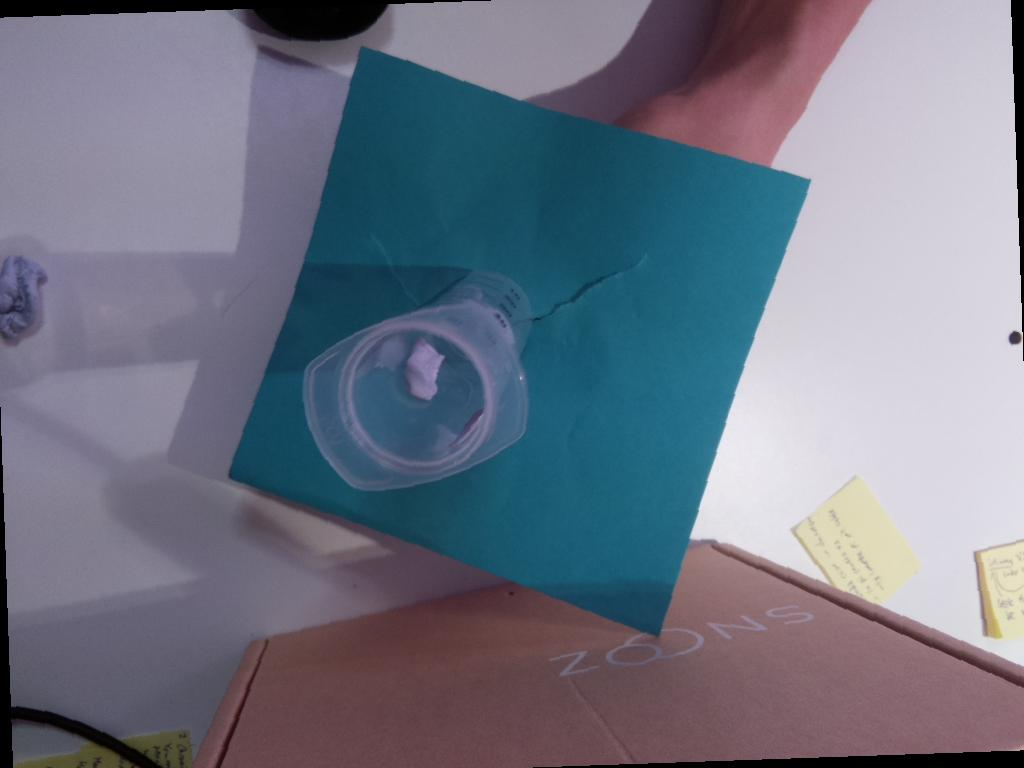dirty: (301, 301, 527, 492)
